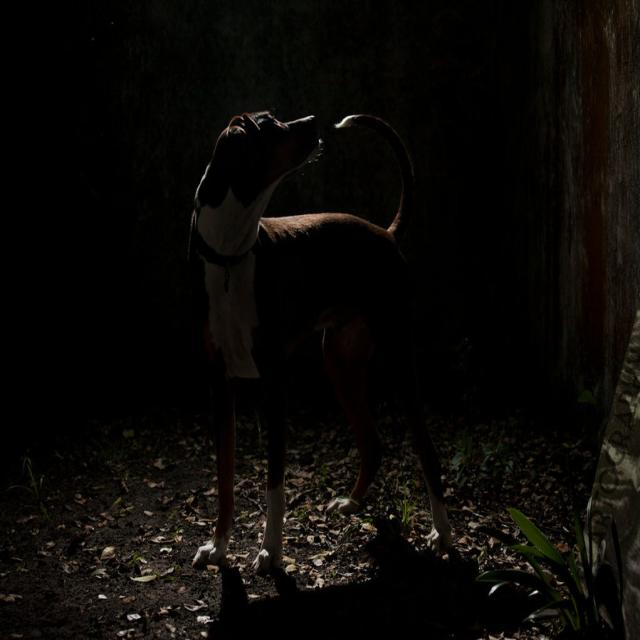Dog: (90, 81, 554, 540)
